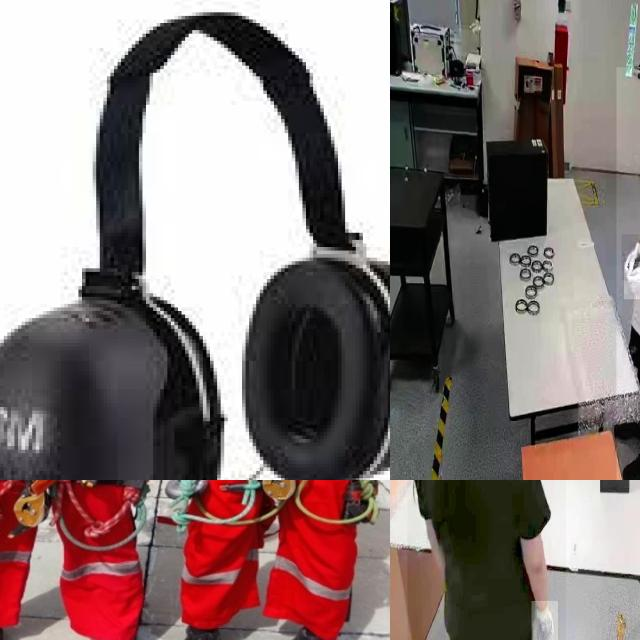Ear-protection: (0, 282, 220, 480), (359, 247, 390, 480)
hand_glove: (531, 601, 558, 640), (621, 234, 640, 280), (623, 262, 640, 300)
person: (407, 480, 566, 640), (616, 67, 640, 480)
shoes: (619, 443, 640, 480)
